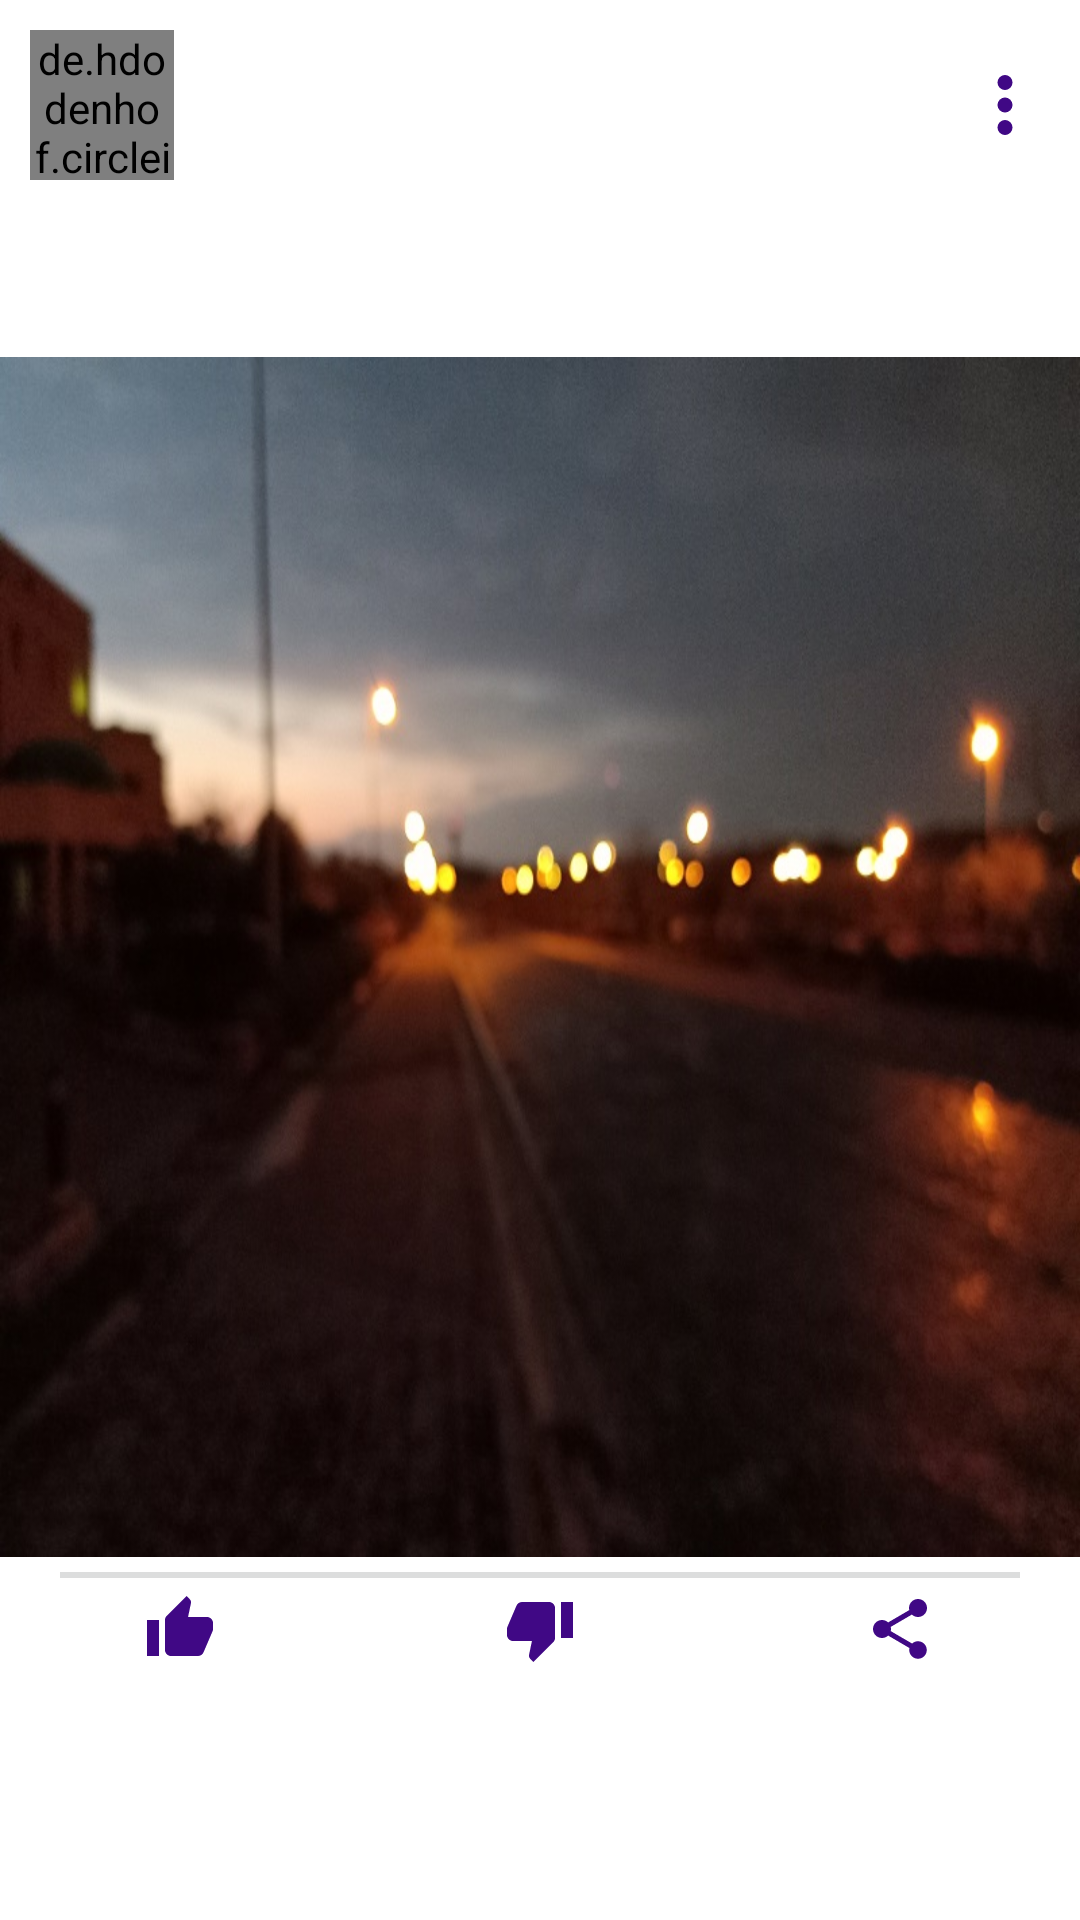

Point at icon controls on the screen. Image size 1080px×1920px, points as point (x, y).
share: point (900, 1629)
thumb down: point (540, 1632)
thumb up: point (180, 1626)
